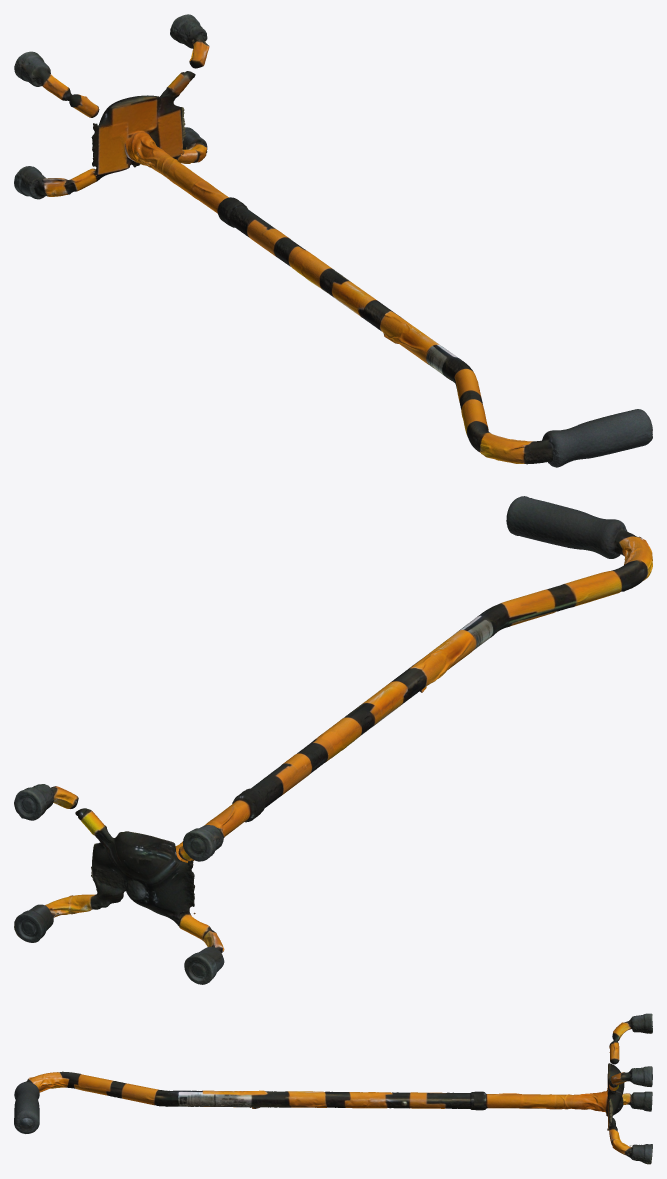
File: cane.glb
3 renders of one model, top to bottom at view 1: azimuth 30°, elevation 25°; view 2: azimuth 150°, elevation 25°; view 3: azimuth 270°, elevation 25°, orthographic. The views are drawn at different scales.
Visible parts, largest first — view 1: goodcane; view 2: goodcane; view 3: goodcane.
Part boxes in pixels (x1=…): goodcane: x1=14, y1=14, x2=652, y2=467; goodcane: x1=14, y1=496, x2=652, y2=984; goodcane: x1=14, y1=1013, x2=652, y2=1164.
Bounding box in the file's own units: 0.2063 × 0.1514 × 0.9077.
1 material, 1 textured.
